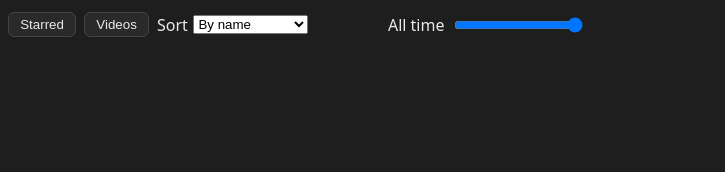
Test case: FilterBar › shows a one-click clear for the date filter that resets slider and store
Step 1. Set the slider with test id "filter-date" showing "All time" to "2" → (495, 24), box [454,16,583,32]
Wait 80 ms
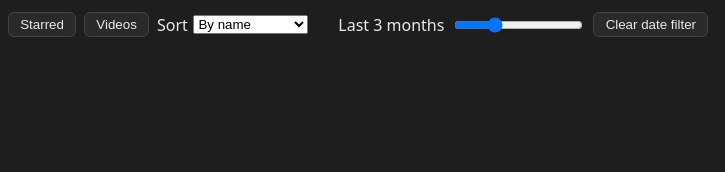
Step 2. Click the button with test id "filter-date-clear" → click(651, 24), box [593,12,708,37]
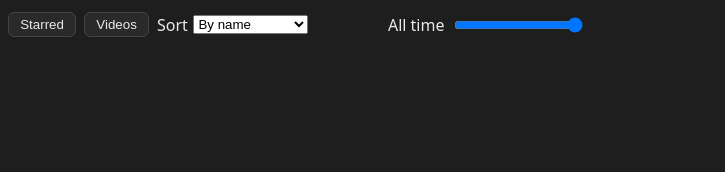
Now the button with test id "filter-date-clear" is gone
